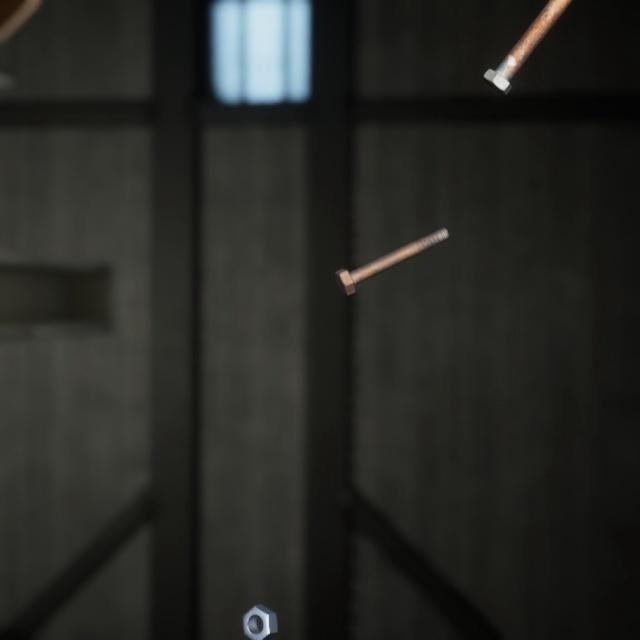bolt: (330, 207, 453, 284), (478, 0, 571, 91)
nut: (238, 576, 282, 623)
